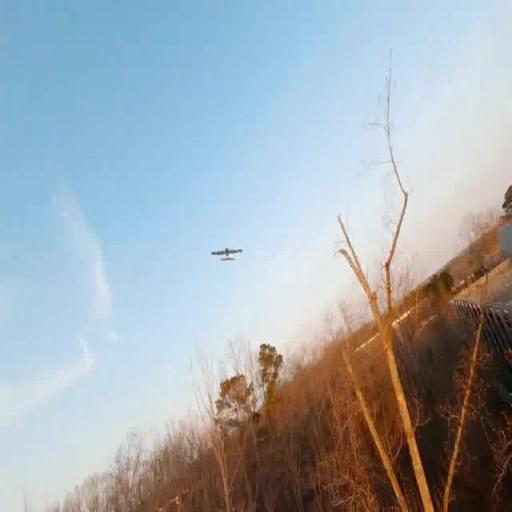uav: (210, 237, 246, 272)
